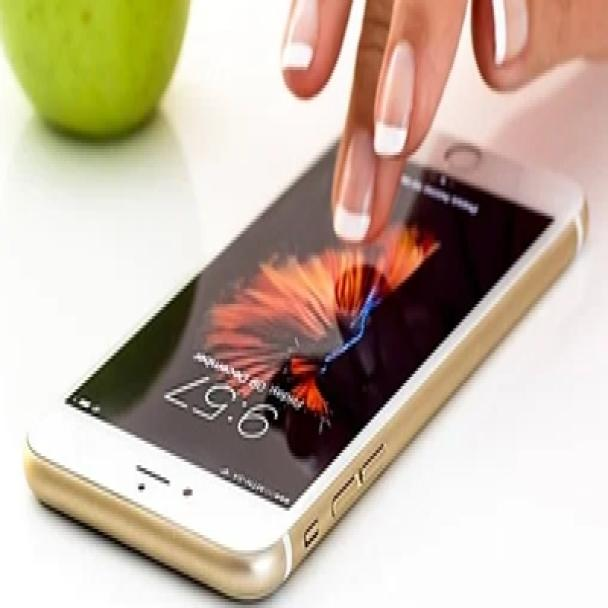Handphone: (16, 90, 598, 608)
